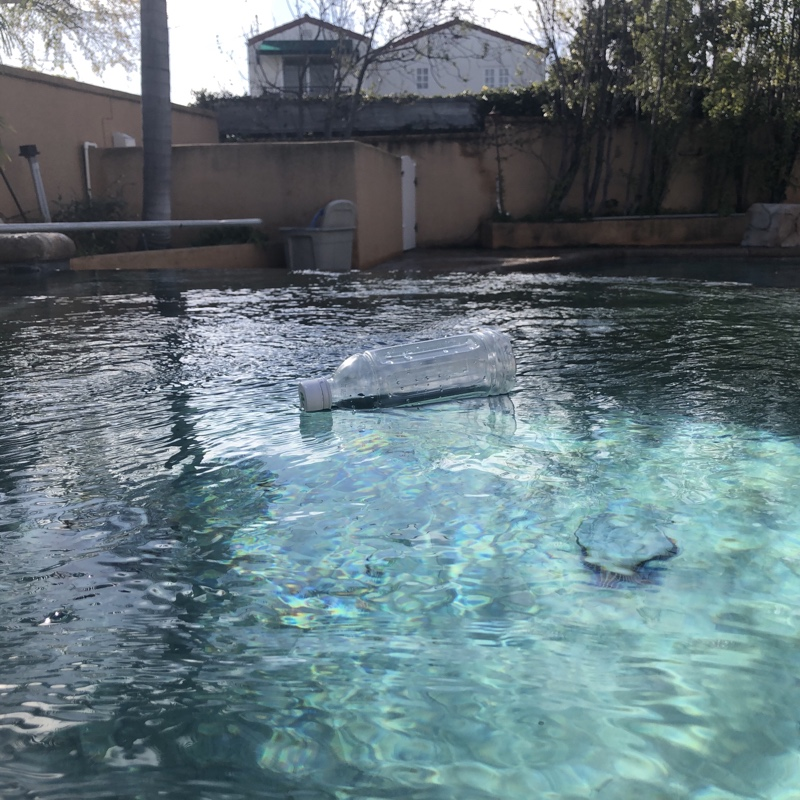Plastic Bottle: (295, 325, 519, 415)
